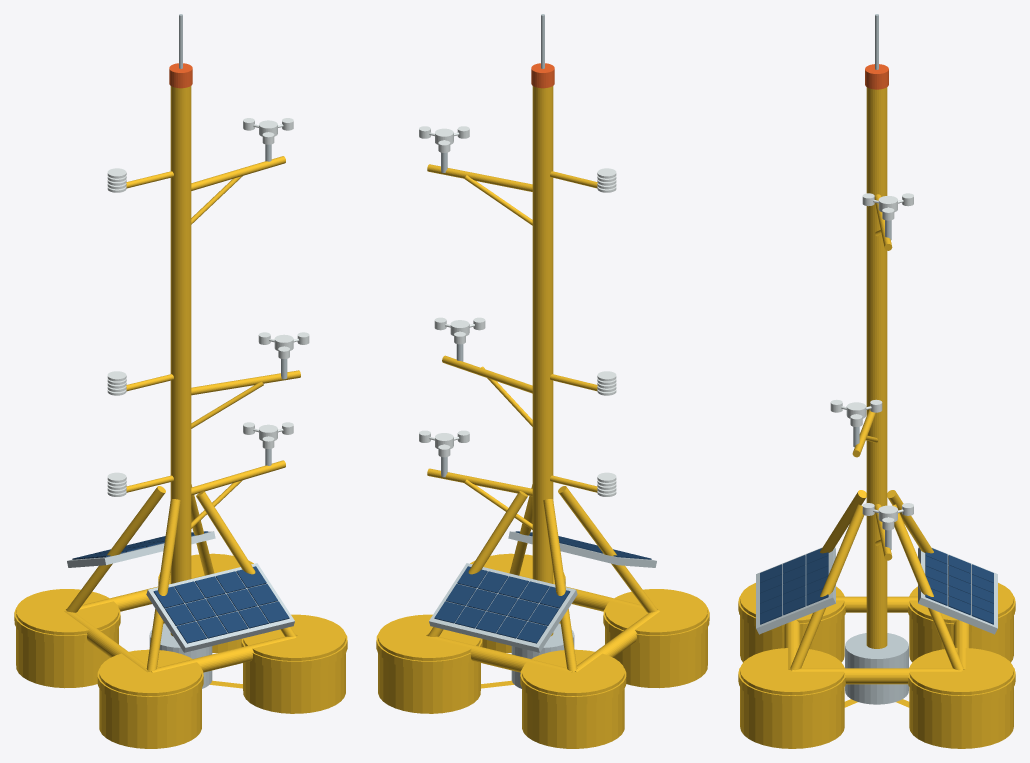
File: deepsea-flux-buoy-schematic.glb
3 views of the same model, side by side, from view 1: azimuth 30°, elevation 25°; view 2: azimuth 150°, elevation 25°; view 3: azimuth 270°, elevation 25° (orthographic).
Visible parts, largest first — view 1: 浮筒 (×4), 主桅杆, 承力支架 (×4), 太阳能边框 (×2), 浮筒护圈 (×3), 浮体框架 (×3), 传感器横臂 (×3), 电池及采集舱; view 2: 浮筒 (×4), 主桅杆, 承力支架 (×4), 太阳能边框 (×2), 浮筒护圈 (×3), 浮体框架 (×3), 传感器横臂 (×3), 电池及采集舱; view 3: 浮筒 (×4), 主桅杆, 承力支架 (×4), 浮体框架 (×4), 浮筒护圈 (×4), 电池及采集舱, 太阳能边框 (×2), 航标灯.
Boxes of the visible parts, x1=… form: 浮筒 (×4): x1=16, y1=553, x2=345, y2=748; 主桅杆: x1=170, y1=86, x2=191, y2=636; 承力支架 (×4): x1=66, y1=484, x2=295, y2=672; 太阳能边框 (×2): x1=67, y1=531, x2=294, y2=652; 浮筒护圈 (×3): x1=14, y1=607, x2=347, y2=704; 浮体框架 (×3): x1=64, y1=575, x2=296, y2=672; 传感器横臂 (×3): x1=191, y1=156, x2=300, y2=495; 电池及采集舱: x1=149, y1=623, x2=212, y2=688; 浮筒 (×4): x1=378, y1=553, x2=707, y2=748; 主桅杆: x1=532, y1=86, x2=553, y2=636; 承力支架 (×4): x1=428, y1=484, x2=657, y2=672; 太阳能边框 (×2): x1=429, y1=531, x2=656, y2=652; 浮筒护圈 (×3): x1=376, y1=607, x2=709, y2=704; 浮体框架 (×3): x1=427, y1=575, x2=659, y2=672; 传感器横臂 (×3): x1=427, y1=164, x2=532, y2=496; 电池及采集舱: x1=511, y1=623, x2=574, y2=688; 浮筒 (×4): x1=740, y1=583, x2=1013, y2=748; 主桅杆: x1=866, y1=87, x2=887, y2=648; 承力支架 (×4): x1=790, y1=490, x2=963, y2=670; 浮体框架 (×4): x1=784, y1=596, x2=969, y2=684; 浮筒护圈 (×4): x1=738, y1=595, x2=1015, y2=704; 电池及采集舱: x1=845, y1=633, x2=908, y2=704; 太阳能边框 (×2): x1=756, y1=547, x2=997, y2=634; 航标灯: x1=865, y1=64, x2=888, y2=89.
Size of the model in its own units: 2.43 by 6.55 by 2.43.
